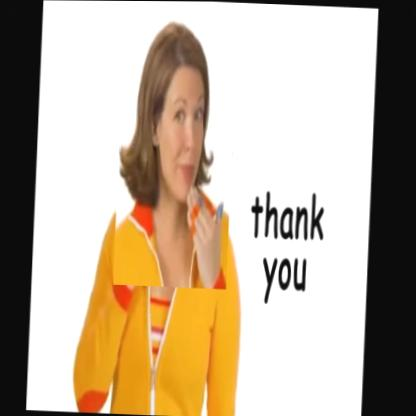ThankYou: (113, 10, 238, 289)
